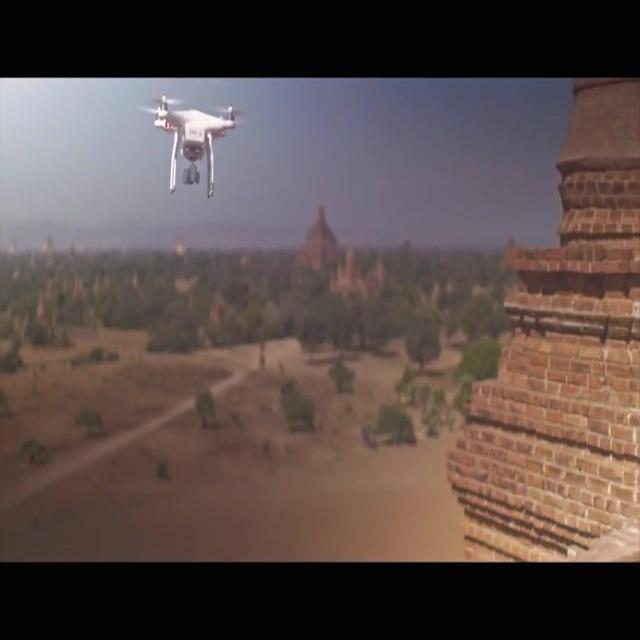drone: (144, 93, 242, 201)
